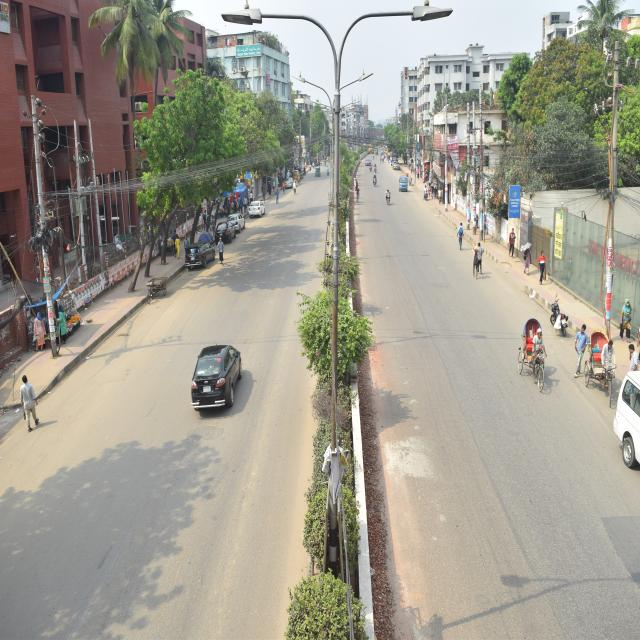car: (187, 335, 248, 417), (182, 239, 218, 274), (223, 206, 250, 238), (240, 199, 268, 219), (214, 221, 238, 244)
microbus: (609, 360, 640, 484)
motorbike: (542, 288, 572, 345), (382, 190, 394, 207), (371, 171, 382, 187)
